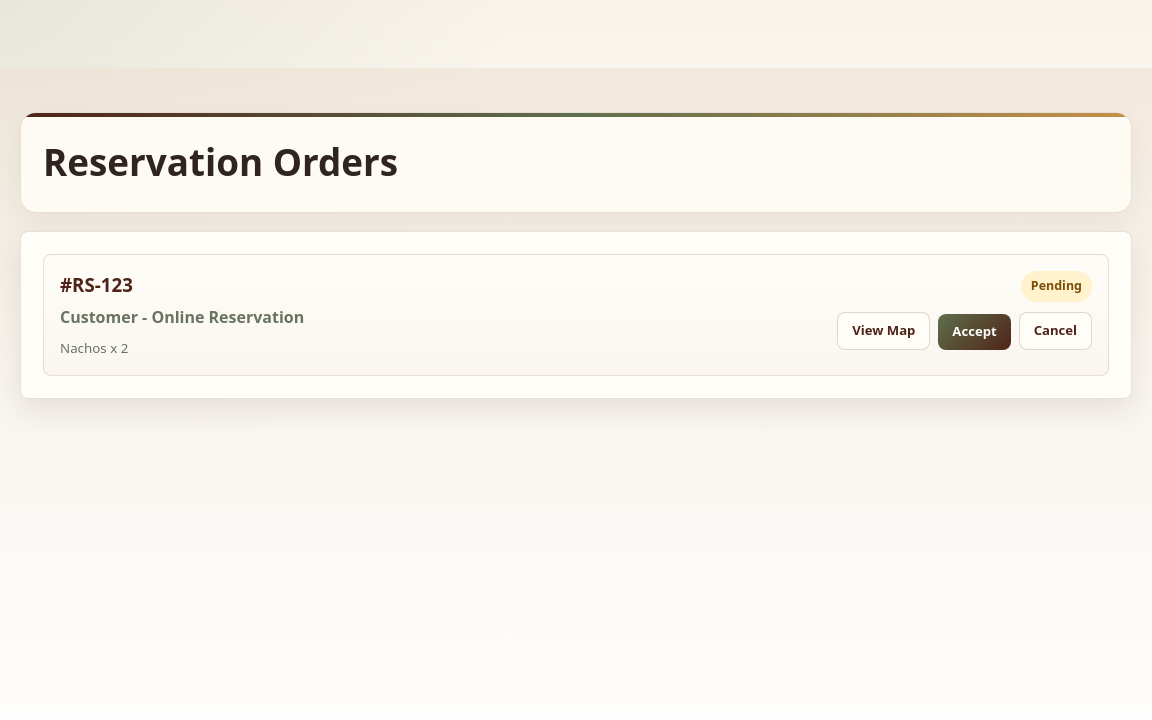
Test case: requires staff verification before accepting a deposit reservation
The width and height of the screenshot is (1152, 720).
Click the button "Accept": [975, 332] box [938,314,1011,350]
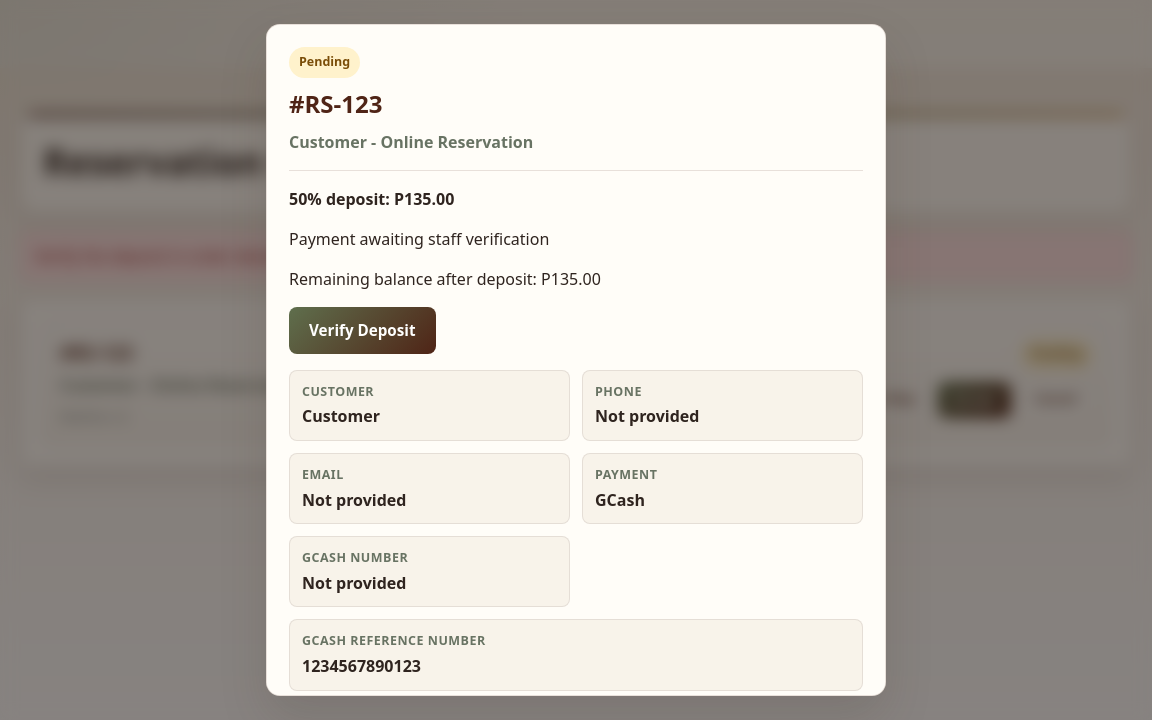
Expected: the button "Verify Deposit" is shown, [289,307,436,354]
Expected: the text "1234567890123" is shown, [302,655,421,677]
